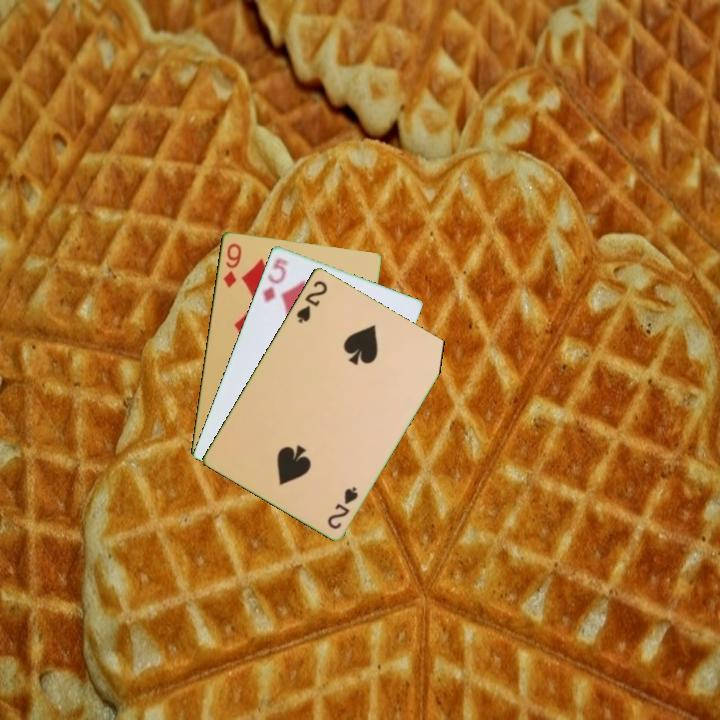2s: (293, 276, 330, 326), (324, 483, 361, 532)
5d: (259, 254, 291, 305)
9d: (219, 239, 244, 290)
